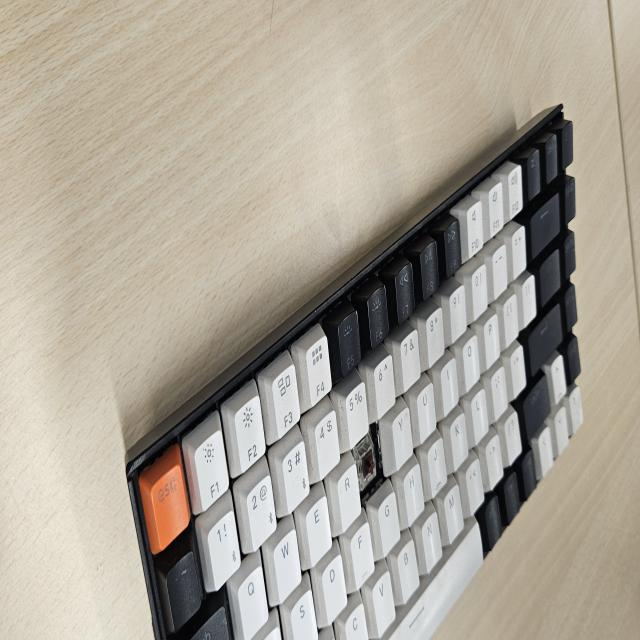C: (359, 450, 385, 490)
